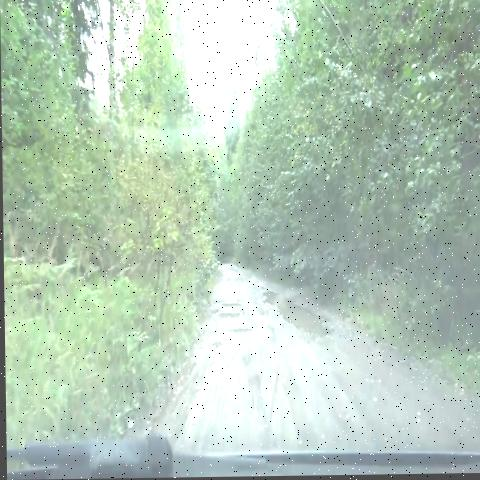pothole: (252, 276, 338, 349), (222, 321, 262, 341), (208, 329, 227, 365), (214, 304, 245, 325), (220, 290, 243, 312)
